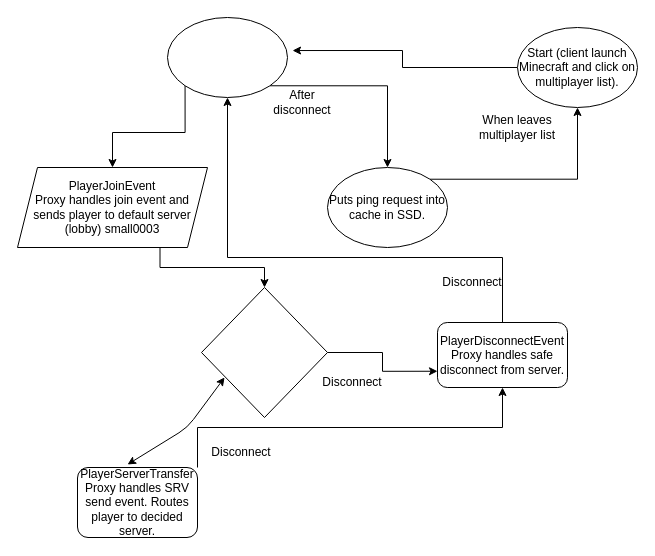
Image size: 655x556. Some labels were removed from this diagram. Each missing label, with the centre of its shape:
"PingHandler (Bungeecord) Sends player and list to client not on server" goes at (x=227, y=57).
"Player decides what server, clicks on NPC or server finder." goes at (x=264, y=352).
